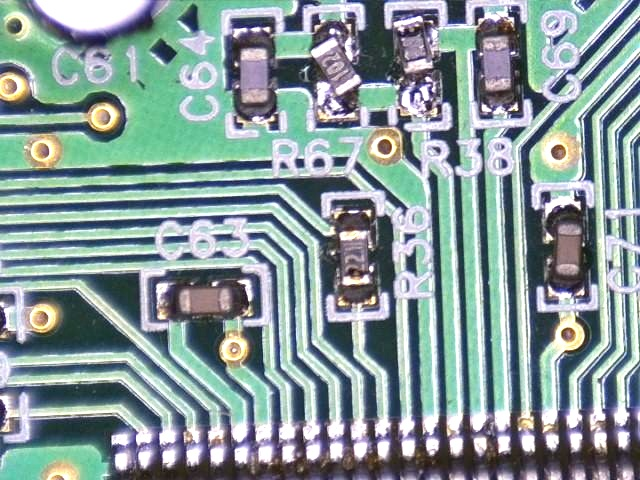pcb_defect: (391, 8, 442, 116), (309, 20, 363, 120), (543, 195, 585, 299)
